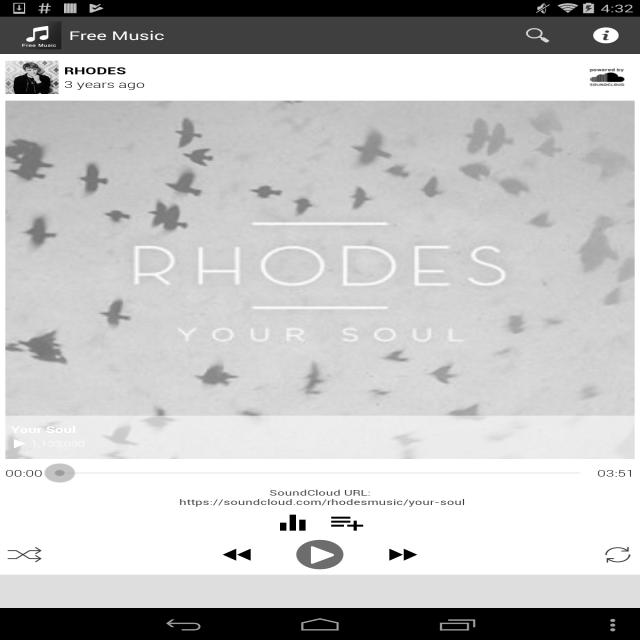Button: (294, 538, 346, 570), (514, 540, 553, 564), (601, 539, 640, 563), (274, 510, 312, 534), (328, 510, 366, 534), (219, 542, 257, 566), (383, 542, 421, 566), (558, 540, 596, 564), (584, 68, 629, 86)
CheckBox: (5, 542, 44, 566), (600, 544, 634, 565)
ImageView: (0, 54, 640, 575), (5, 101, 635, 459), (5, 98, 70, 138), (5, 158, 70, 198), (5, 220, 70, 260), (5, 280, 70, 320), (5, 340, 70, 380), (5, 402, 70, 442), (5, 61, 59, 94), (5, 535, 59, 568), (14, 19, 64, 52), (609, 170, 635, 187), (5, 436, 31, 452), (609, 110, 635, 126), (609, 232, 635, 248), (609, 292, 635, 308), (609, 352, 635, 368), (609, 414, 635, 429), (80, 120, 99, 132), (80, 181, 99, 193), (80, 242, 99, 254), (80, 302, 99, 314), (80, 363, 99, 375), (80, 424, 99, 436), (164, 120, 182, 132), (164, 180, 182, 192), (164, 241, 182, 253), (164, 302, 182, 314), (164, 362, 182, 374), (164, 423, 182, 435)
SeekBar: (43, 462, 597, 484)
TextView: (0, 487, 640, 507), (11, 423, 634, 436), (80, 163, 598, 177), (80, 224, 598, 238), (80, 345, 598, 359), (80, 406, 598, 420), (64, 77, 579, 91), (80, 103, 598, 116), (80, 285, 598, 298), (64, 64, 579, 77), (64, 544, 514, 558), (292, 54, 401, 87), (189, 54, 292, 87), (88, 54, 189, 87), (400, 54, 501, 87), (0, 54, 88, 87), (571, 16, 640, 54), (503, 17, 572, 54), (69, 27, 165, 43), (182, 180, 252, 194), (182, 241, 252, 255), (182, 423, 252, 437), (182, 362, 240, 376), (182, 120, 240, 133), (182, 302, 240, 315), (31, 438, 85, 449), (99, 180, 139, 194), (99, 241, 139, 255), (99, 362, 139, 376), (99, 423, 139, 437), (99, 120, 139, 133), (99, 302, 139, 315), (5, 467, 43, 479), (597, 467, 635, 479)
